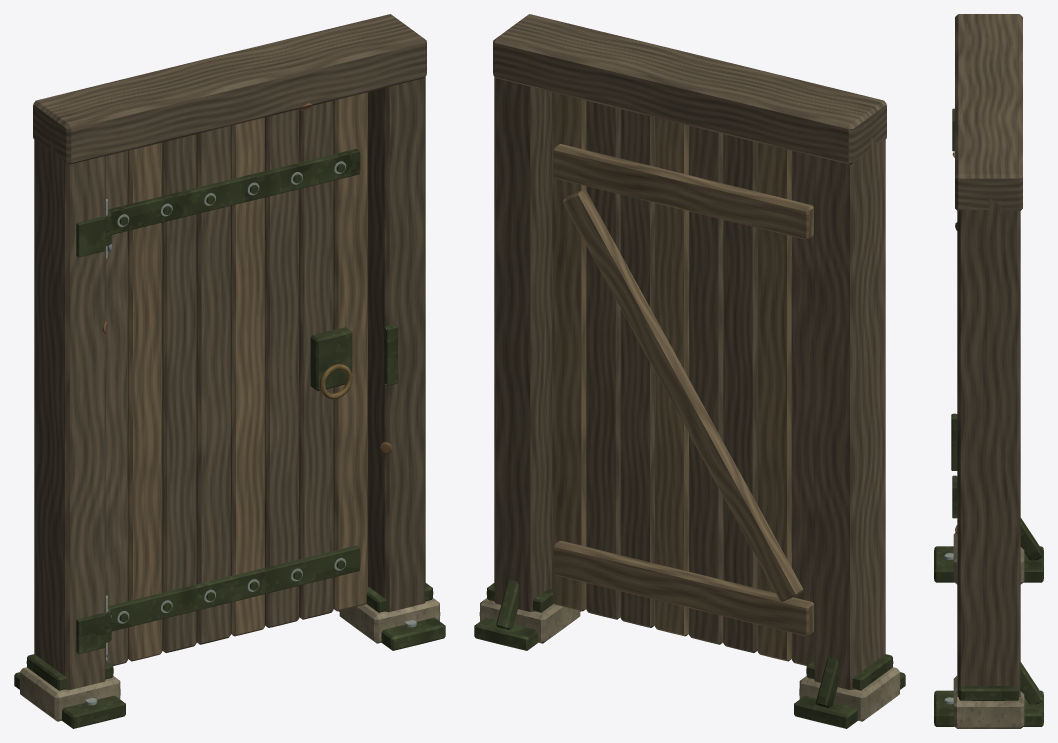
3 renders of one model, left to right at view 1: azimuth 30°, elevation 25°; view 2: azimuth 150°, elevation 25°; view 3: azimuth 270°, elevation 25°, orthographic. The views are drawn at different scales.
Parts seen in each view (by area): view 1: quarter-sawn-timber (×2), exposed-end-grain, olive-painted-field-steel (×2), sandstone-edges, machined-bearing-steel; view 2: quarter-sawn-timber (×2), exposed-end-grain, olive-painted-field-steel, sandstone-edges; view 3: quarter-sawn-timber, olive-painted-field-steel, sandstone-edges.
Boxes of the visible parts, x1,y1,x2,y2 form: quarter-sawn-timber (×2): (33,14,426,689); exposed-end-grain: (128,92,367,661); olive-painted-field-steel (×2): (14,148,445,728); sandstone-edges: (19,598,440,721); machined-bearing-steel: (117,161,346,623); quarter-sawn-timber (×2): (493,14,886,689); exposed-end-grain: (552,92,813,661); olive-painted-field-steel: (474,579,905,728); sandstone-edges: (479,598,900,721); quarter-sawn-timber: (955,14,1022,697); olive-painted-field-steel: (934,108,1043,726); sandstone-edges: (953,533,1024,728).
Size of the model in its own units: 1.69 by 2.48 by 0.45.
Materials: 8 (6 with a texture image).
